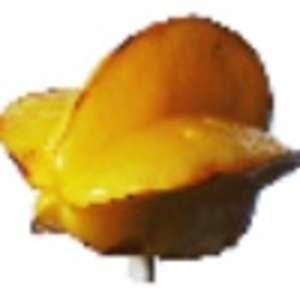carambola: (1, 13, 300, 281)
